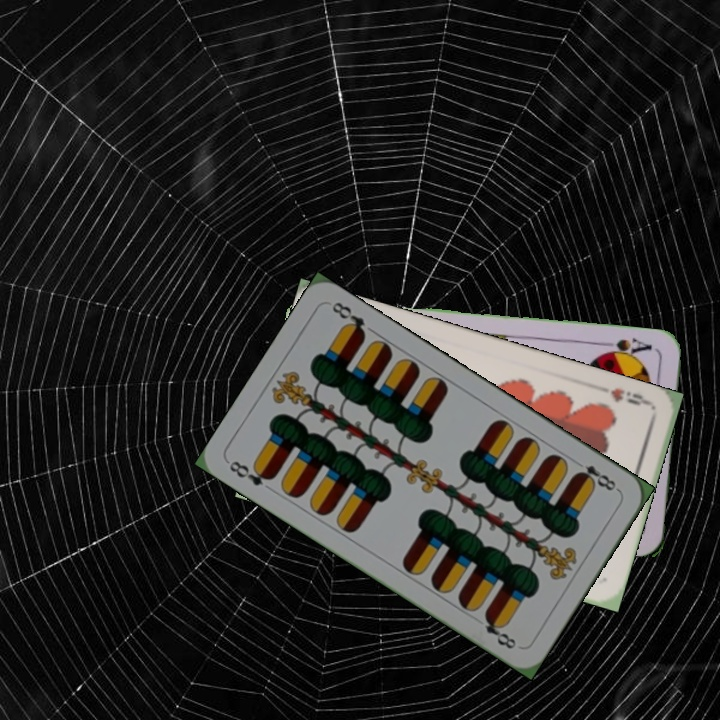E8: (570, 456, 622, 494), (225, 456, 277, 489)
H9: (606, 384, 654, 408)
SA: (597, 333, 655, 361)
